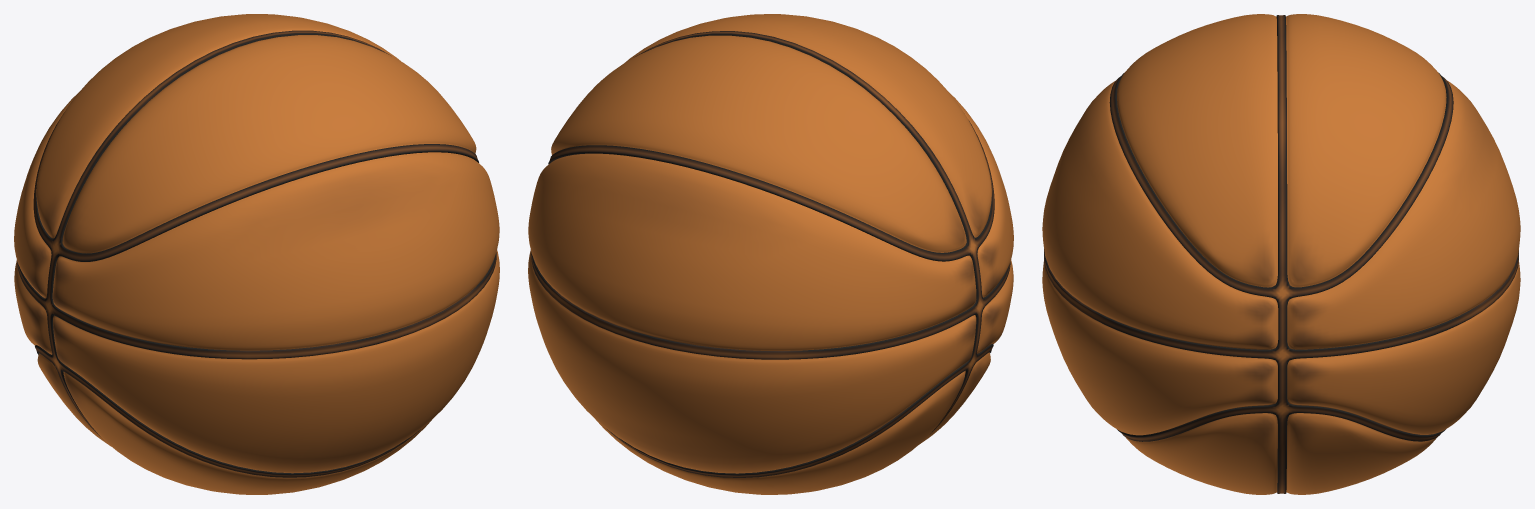
File: basketball.glb
3 renders of one model, left to right at view 1: azimuth 30°, elevation 25°; view 2: azimuth 150°, elevation 25°; view 3: azimuth 270°, elevation 25°, orthographic.
Visible parts, largest first — view 1: NBA_spalding; view 2: NBA_spalding; view 3: NBA_spalding.
Part boxes in pixels (x1,y1,x2,y2): NBA_spalding: [14, 14, 499, 494]; NBA_spalding: [528, 14, 1013, 494]; NBA_spalding: [1042, 14, 1520, 494].
Size of the model in its own units: 2.04 by 2 by 1.99.
